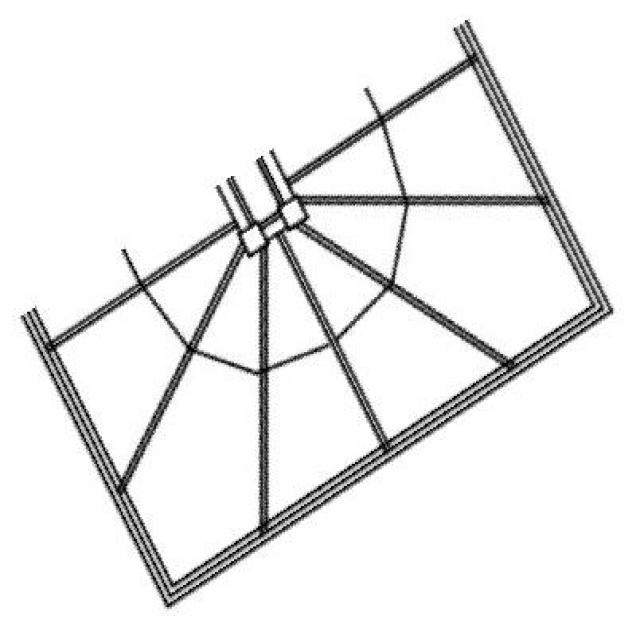stair: (22, 16, 616, 612)
